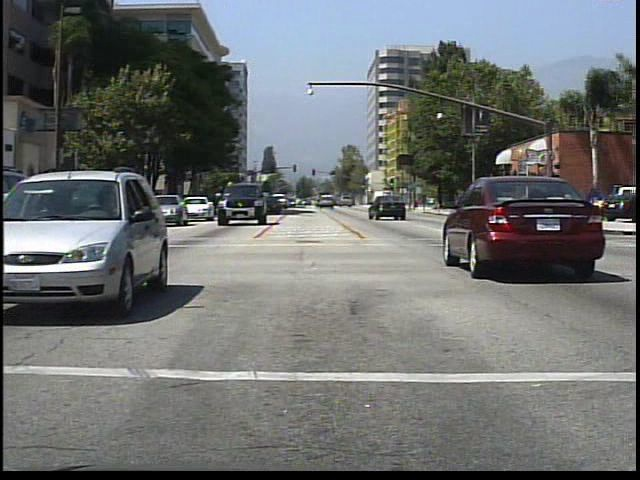person: (561, 188, 582, 233), (515, 190, 532, 227)
